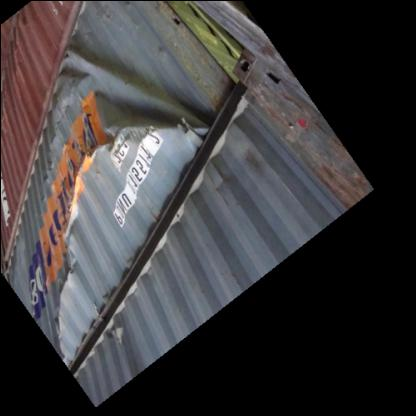Damage: (62, 46, 204, 142), (23, 151, 98, 328)
